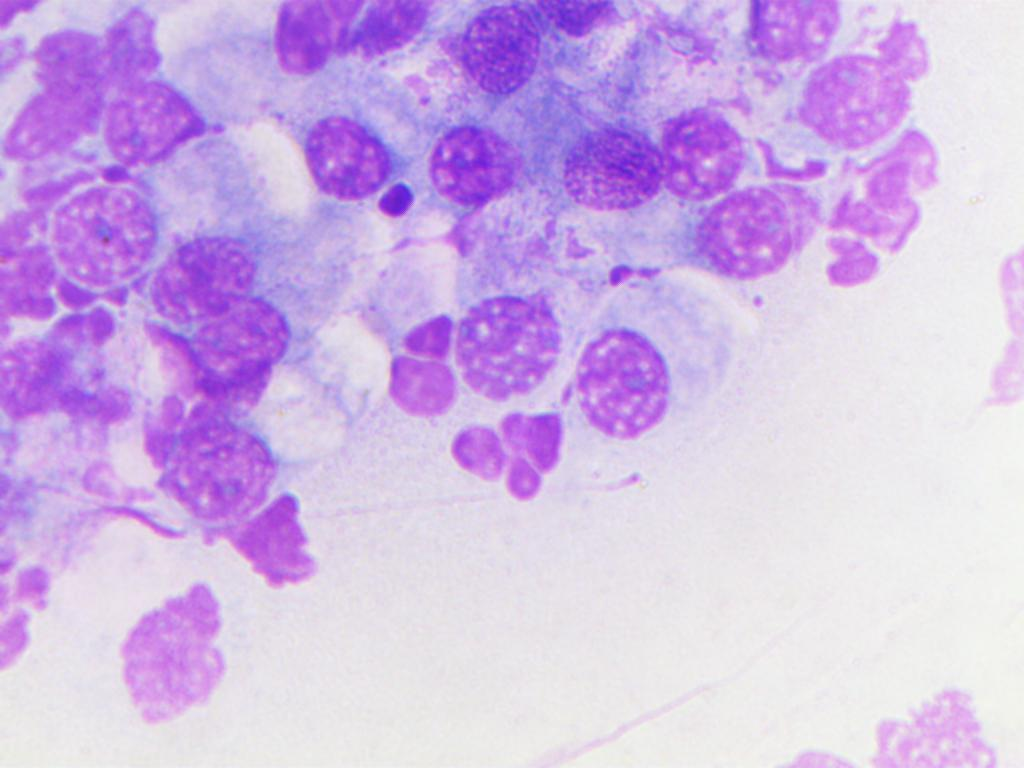epithelial: (566, 295, 732, 439), (157, 402, 286, 522), (457, 277, 564, 415), (543, 105, 661, 229), (787, 42, 918, 148), (416, 115, 535, 227), (48, 180, 159, 295), (686, 192, 821, 284), (180, 302, 297, 392), (290, 101, 393, 199), (659, 86, 744, 197), (453, 10, 544, 100)
goblet_cell: (105, 28, 298, 173)
neutrophil: (378, 179, 416, 226)
